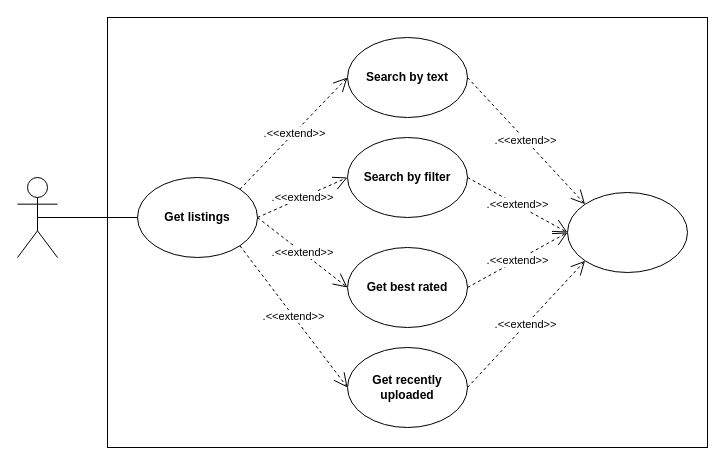
The diagram is 725 pixels wide and 465 high, and some of its shapes have lost their labels. Here are the shapes that lost their labels. From the top down, the centre of each, then its label:
At [37,217]: "User".
At [627,232]: "View detail information".
